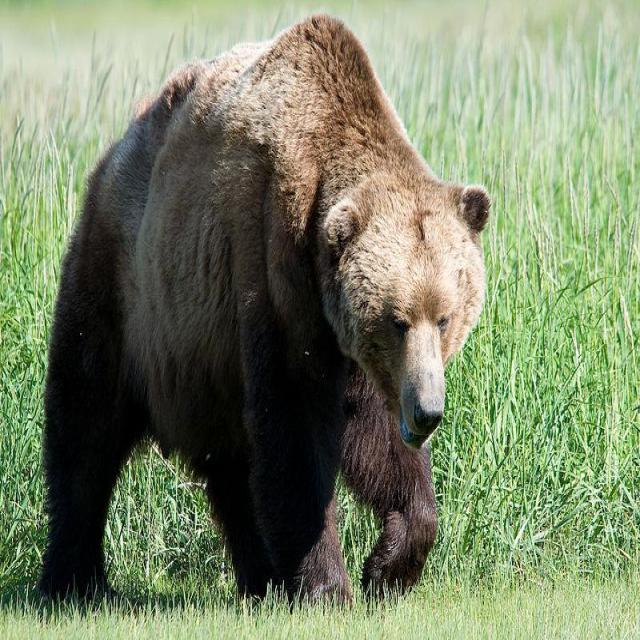Bear: (36, 13, 492, 608)
